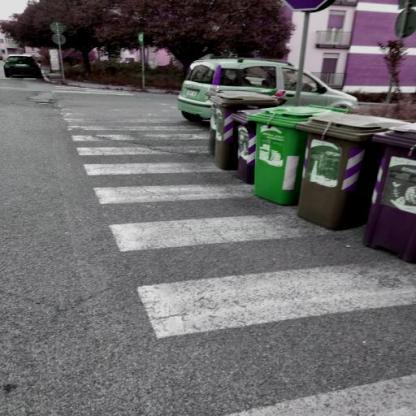crosswalk: (92, 214, 416, 343)
